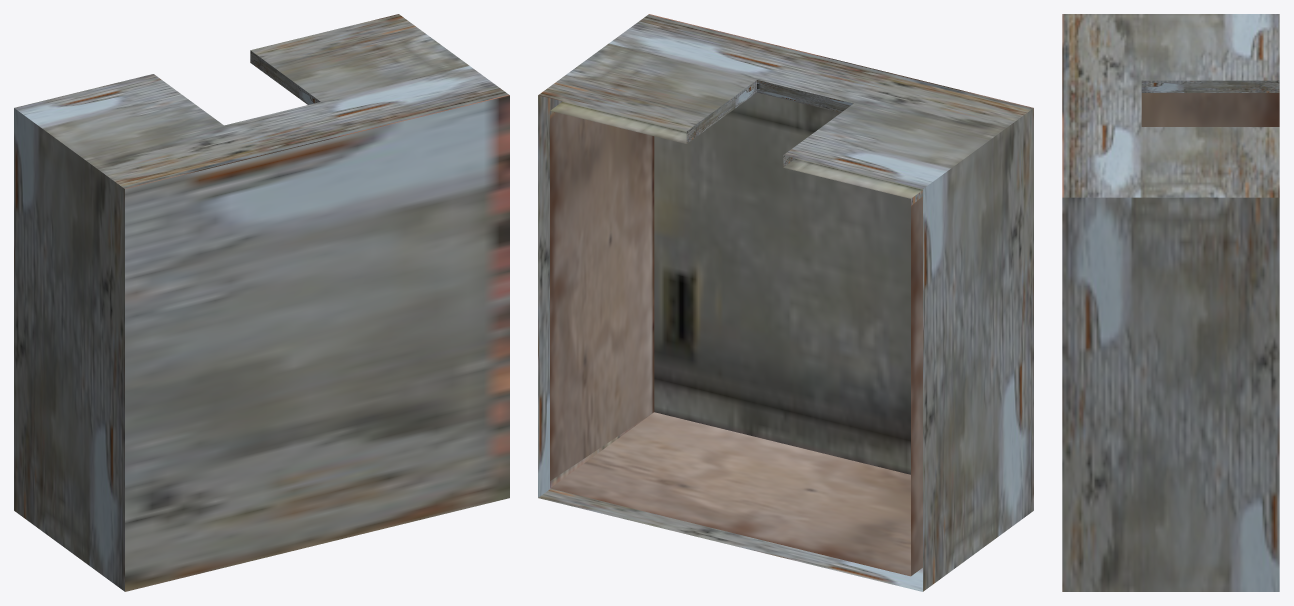
Rendered from 4x4N_plaster_wtf.obj.
3 views of the same model, side by side, from view 1: azimuth 30°, elevation 25°; view 2: azimuth 150°, elevation 25°; view 3: azimuth 270°, elevation 25° (orthographic). The views are drawn at different scales.
Parts seen in each view (by area): view 1: group3; view 2: group3; view 3: group3.
Part boxes in pixels (box(x1,y1,x2,y2)): group3: box(14, 14, 509, 591); group3: box(538, 14, 1033, 591); group3: box(1062, 14, 1279, 591).
Size of the model in its own units: 660 by 660 by 330.
